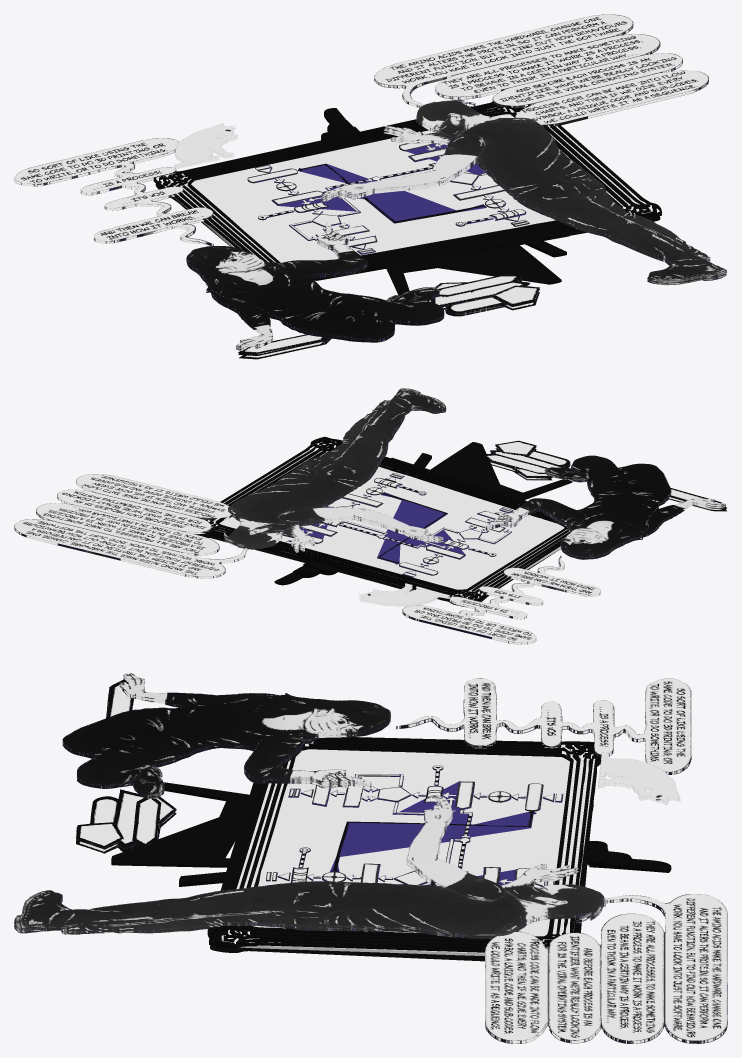
Rendered from Whiteboard.fbx.
The picture shows the model from 3 angles, top to bottom: view 1: azimuth 30°, elevation 25°; view 2: azimuth 150°, elevation 25°; view 3: azimuth 270°, elevation 25°; orthographic projection. The views are drawn at different scales.
Parts seen in each view (by area): view 1: d1_speech, Curve.003, d1_b, Curve.045, d2_b, Flowchart, d2_speech, d1_a, Curve.005, d2_a, d1_c, d2_c (+7 smaller); view 2: d1_speech, Curve.003, d1_b, Curve.045, d2_b, Flowchart, d2_speech, d1_a, Curve.005, d2_a, d1_c, d2_c (+5 smaller); view 3: d1_speech, Curve.003, d1_b, d2_b, Curve.045, Flowchart, d2_speech, d1_a, Curve.005, d2_a, d1_c, d2_c (+9 smaller).
Part boxes in pixels (x1,y1,x2,y2): d1_speech: (374, 14, 708, 126); Curve.003: (161, 107, 652, 262); d1_b: (323, 99, 726, 281); Curve.045: (153, 101, 661, 265); d2_b: (186, 226, 444, 340); Flowchart: (247, 131, 529, 254); d2_speech: (14, 138, 213, 245); d1_a: (322, 101, 726, 285); Curve.005: (386, 243, 561, 295); d2_a: (186, 240, 443, 350); d1_c: (322, 115, 485, 197); d2_c: (216, 223, 367, 276); d1_speech: (14, 474, 247, 578); Curve.003: (207, 442, 570, 599); d1_b: (224, 388, 445, 547); Curve.045: (199, 436, 571, 601); d2_b: (485, 455, 671, 557); Flowchart: (283, 473, 513, 577); d2_speech: (402, 556, 600, 644); d1_a: (224, 393, 446, 552); Curve.005: (430, 442, 572, 499); d2_a: (485, 467, 725, 559); d1_c: (256, 507, 443, 539); d2_c: (485, 498, 608, 542); d1_speech: (485, 894, 727, 1043); Curve.003: (221, 741, 595, 956); d1_b: (14, 798, 605, 935); d2_b: (62, 693, 390, 786); Curve.045: (207, 737, 601, 952); Flowchart: (266, 765, 563, 886); d2_speech: (396, 678, 691, 774); d1_a: (14, 799, 605, 938); Curve.005: (111, 782, 249, 867); d2_a: (62, 673, 390, 798); d1_c: (406, 795, 562, 903); d2_c: (244, 708, 370, 784).
Size of the model in its own units: 205 by 3.67 by 168.
26 materials, 17 textured.
